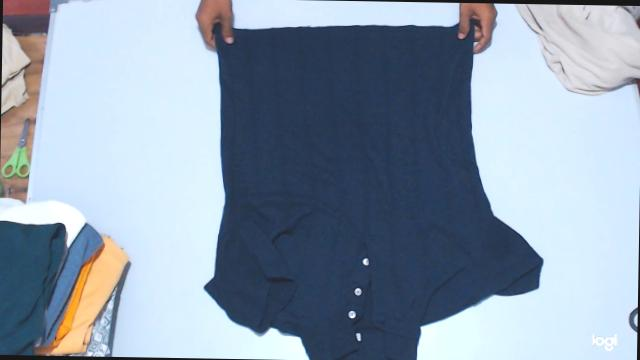new-garment: (206, 25, 543, 360)
